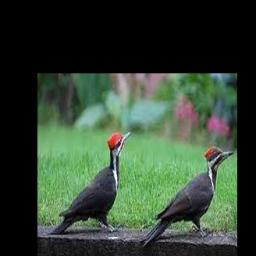Woodpecker: (140, 145, 234, 246), (50, 131, 132, 234)
